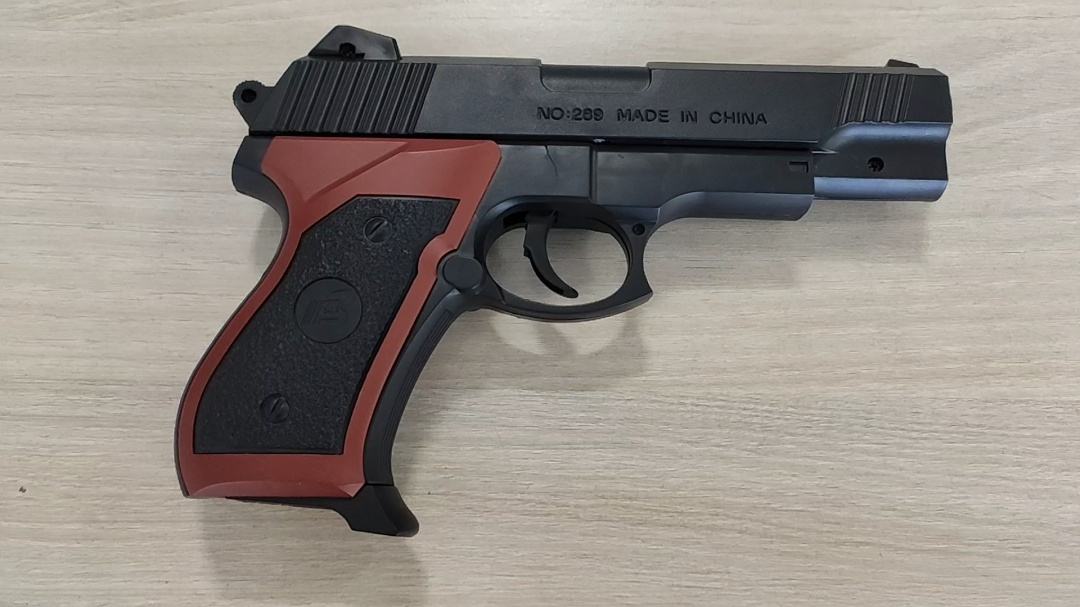gun: (168, 23, 954, 541)
